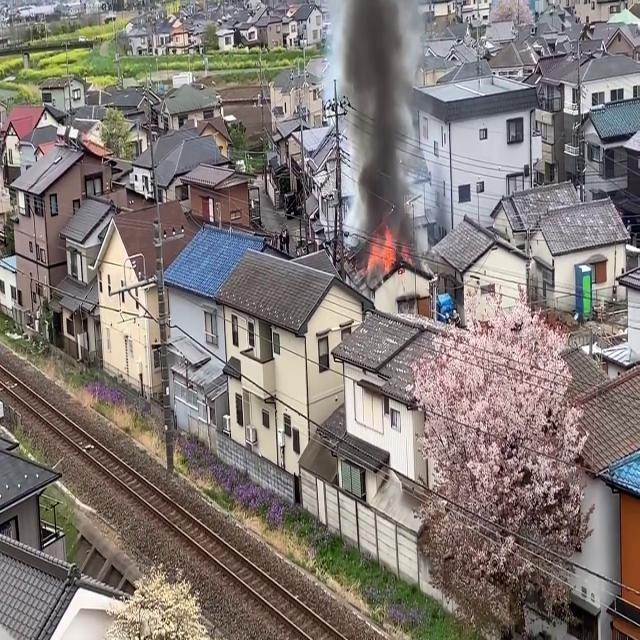Fire: (364, 224, 400, 277)
Smoke: (338, 1, 421, 248)
